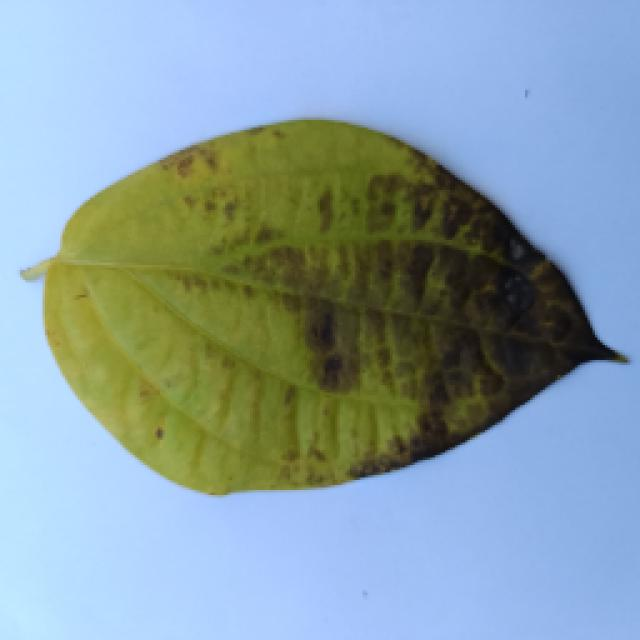slow-decline: (8, 115, 620, 500)
